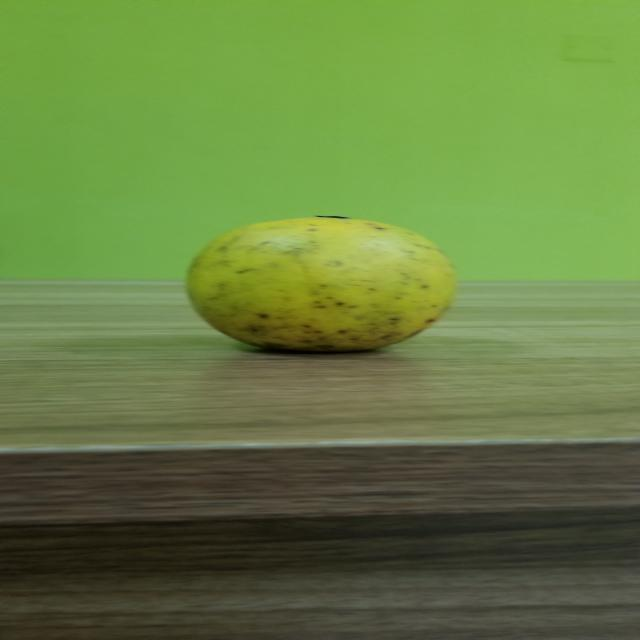Ripe orange: (166, 203, 467, 364)
